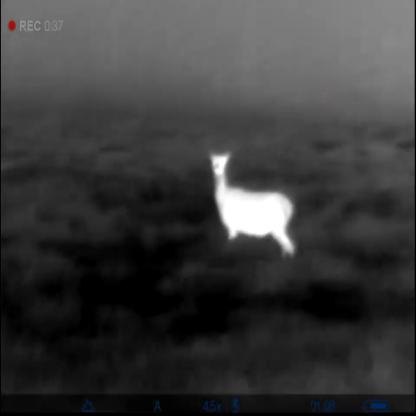rehkitze: (209, 149, 301, 262)
